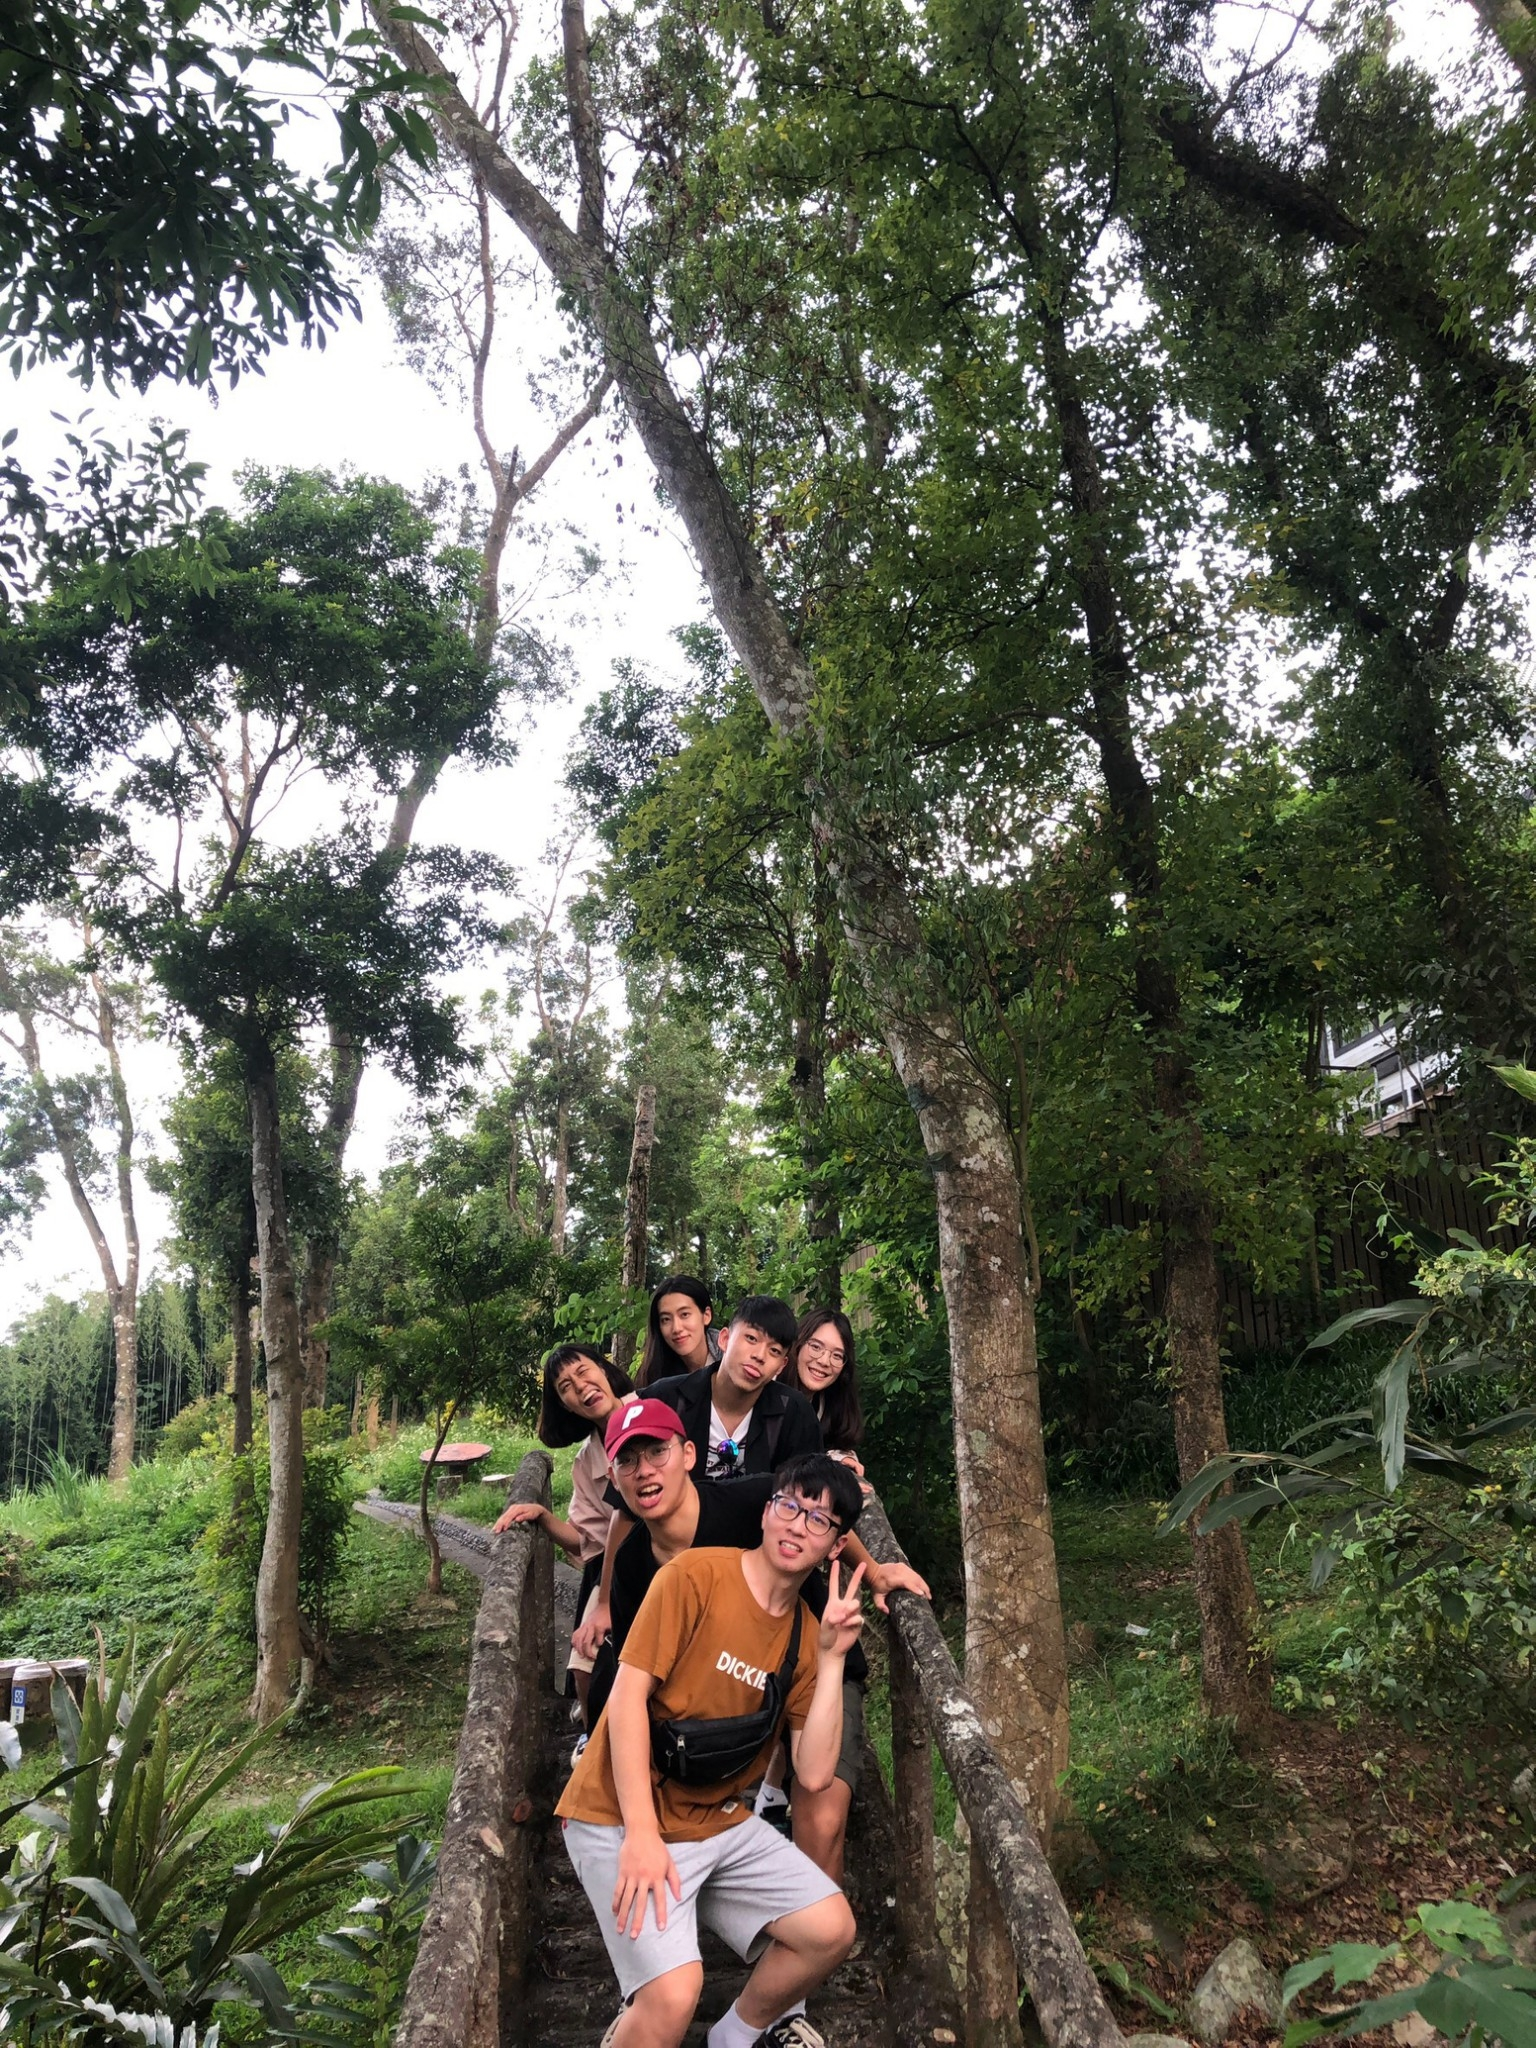people: (589, 1396, 834, 2038), (595, 1464, 834, 2038), (547, 1338, 647, 1464), (689, 1305, 779, 1409), (798, 1315, 856, 1473), (653, 1286, 724, 1389)
